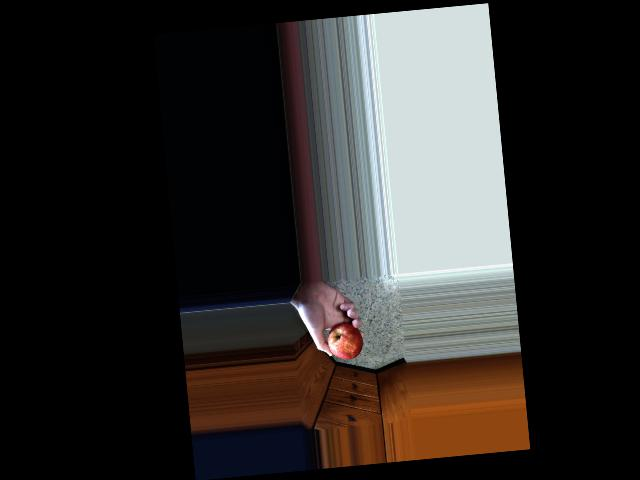apple: (319, 311, 364, 362)
